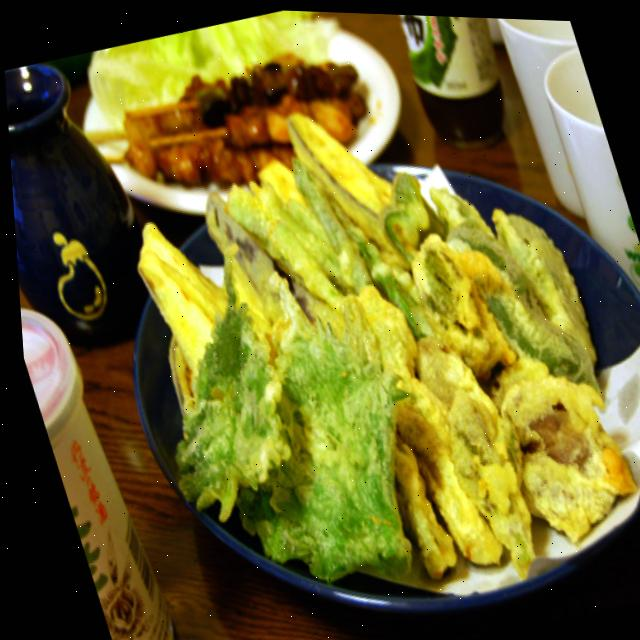蔬菜料理: (86, 69, 640, 640)
